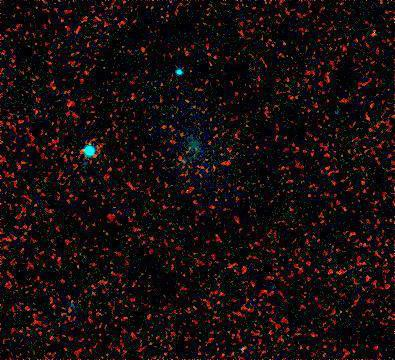star: (360, 17, 390, 47)
